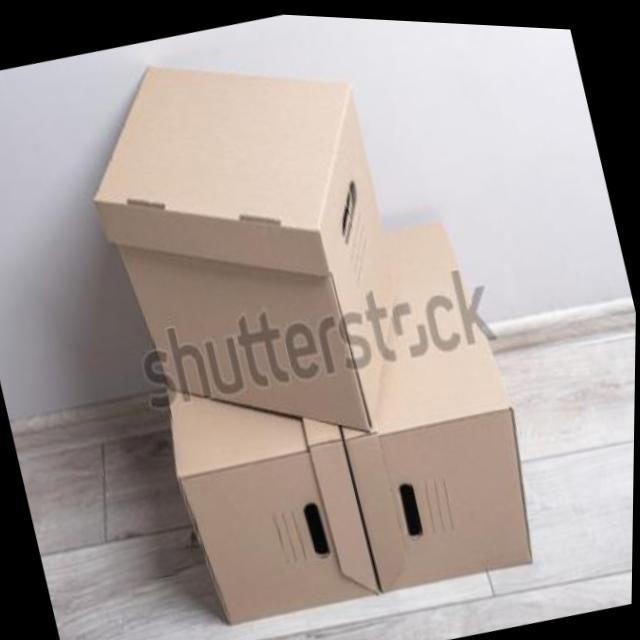box: (57, 6, 442, 489), (287, 185, 562, 600), (141, 340, 389, 640)
